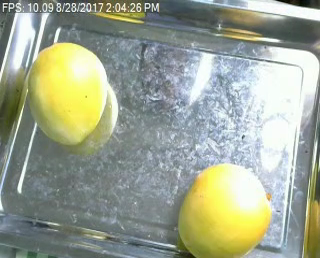Mango: (174, 161, 273, 257), (24, 42, 111, 144)
